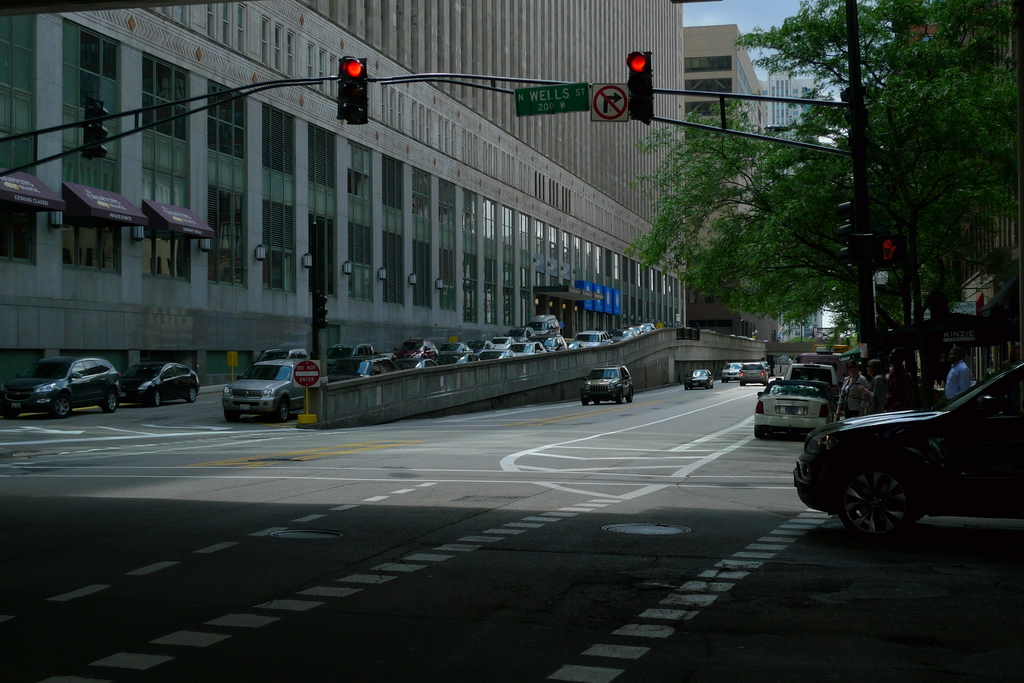red_light: (338, 59, 366, 120), (626, 52, 652, 115)
